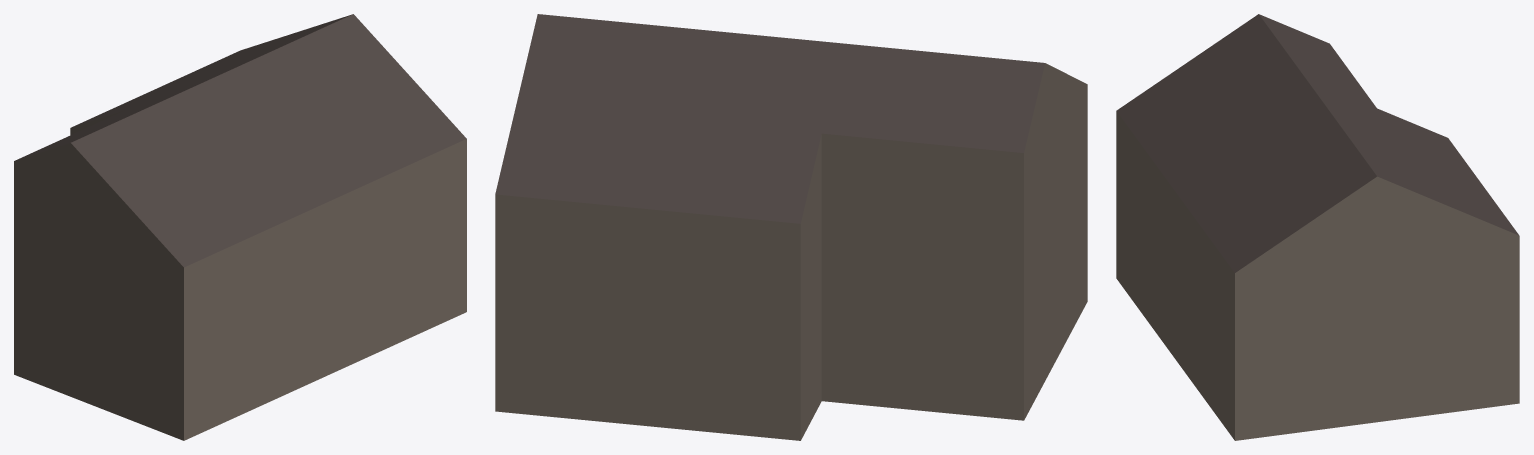
The picture shows the model from 3 angles, left to right: view 1: azimuth 30°, elevation 25°; view 2: azimuth 150°, elevation 25°; view 3: azimuth 270°, elevation 25°; orthographic projection. The views are drawn at different scales.
Visible parts, largest first — view 1: HP-w1198645052; view 2: HP-w1198645052; view 3: HP-w1198645052.
Part boxes in pixels (x1,y1,x2,y2): HP-w1198645052: (14,14,466,440); HP-w1198645052: (495,14,1087,440); HP-w1198645052: (1116,14,1519,440).
Bounding box in the file's own units: 21.93 × 13.18 × 19.6.
